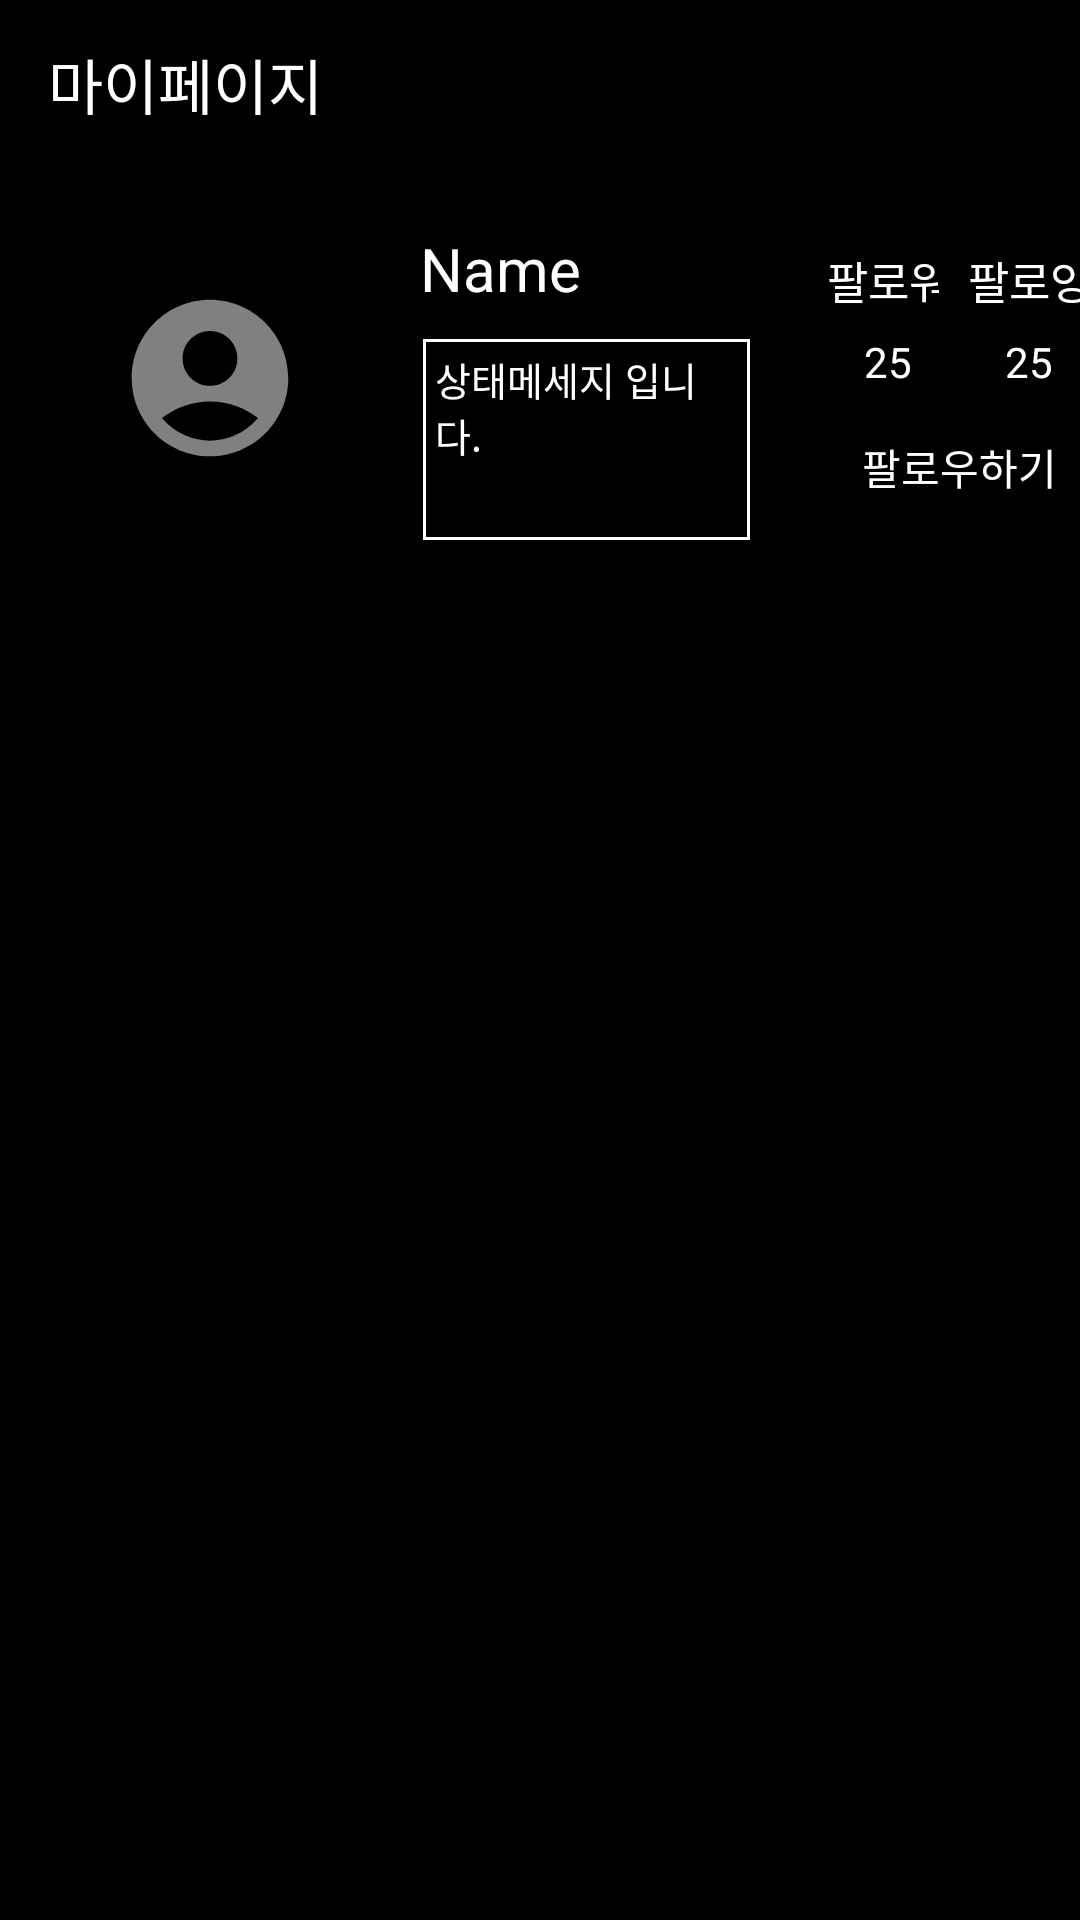

Named icons in this screenshot (1080x1920) and their centers, (x=x, y=y):
profile: (x=210, y=378)
